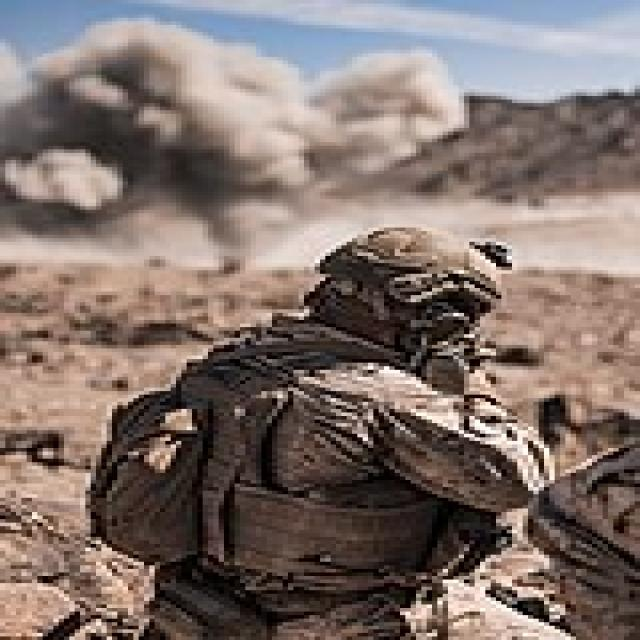explosion: (0, 0, 523, 313)
